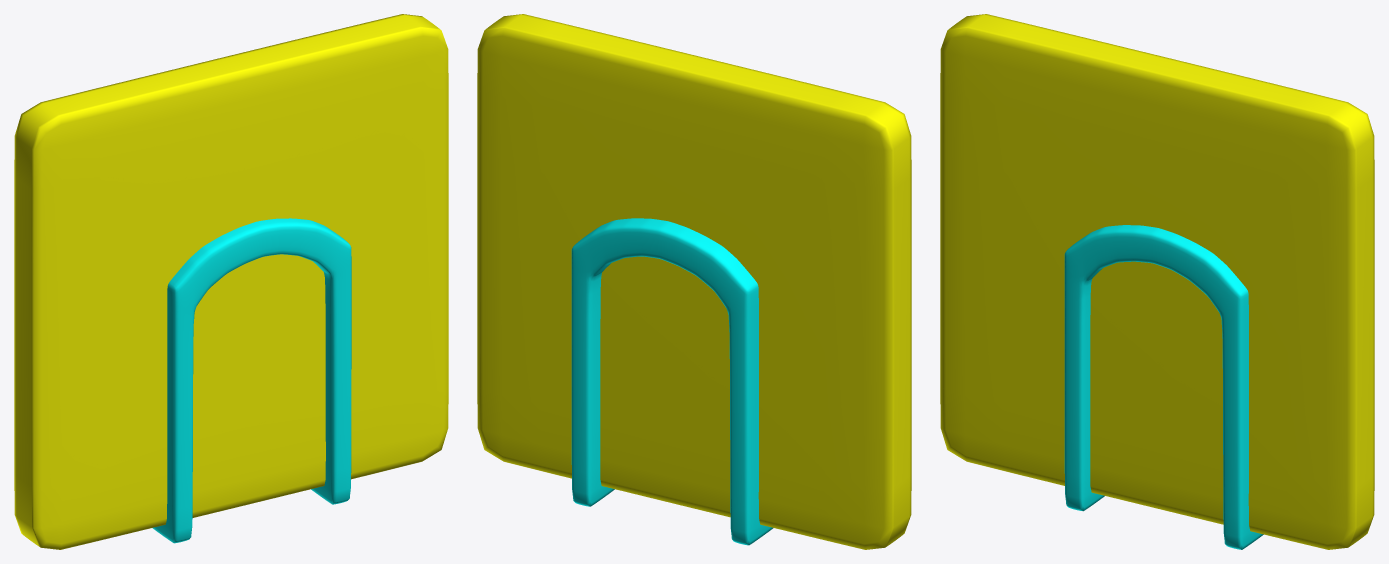
3 views of the same model, side by side, from view 1: azimuth 30°, elevation 25°; view 2: azimuth 150°, elevation 25°; view 3: azimuth 330°, elevation 25° (orthographic).
Parts seen in each view (by area): view 1: polySurface1010; view 2: polySurface1010; view 3: polySurface1010.
Part boxes in pixels (x1,y1,x2,y2): polySurface1010: (14, 14, 448, 549); polySurface1010: (477, 14, 911, 549); polySurface1010: (940, 14, 1374, 549).
Size of the model in its own units: 0.9994 by 1.03 by 0.1741.
